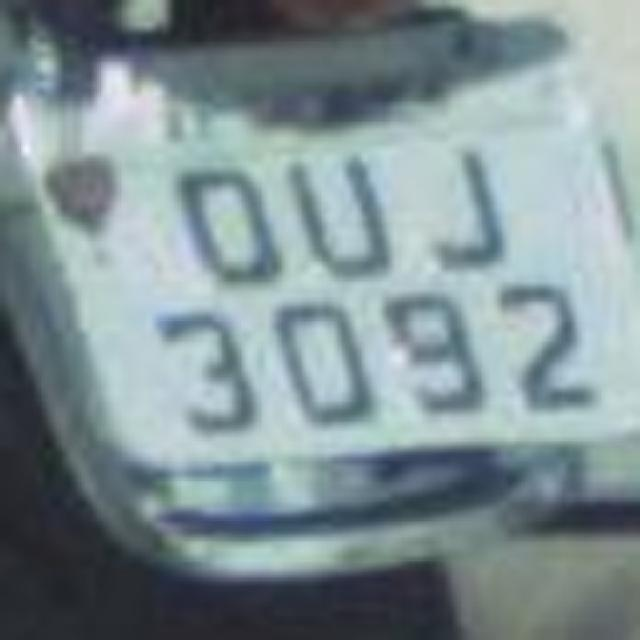0: (236, 272, 412, 440)
2: (456, 268, 624, 444)
3: (100, 271, 305, 444)
L: (409, 148, 536, 288)
O: (168, 136, 308, 292)
U: (268, 140, 428, 300)
